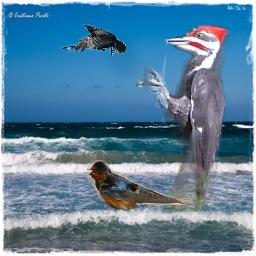Crow: (60, 24, 126, 56)
Swallow: (87, 160, 195, 209)
Woodpecker: (135, 25, 231, 212)
